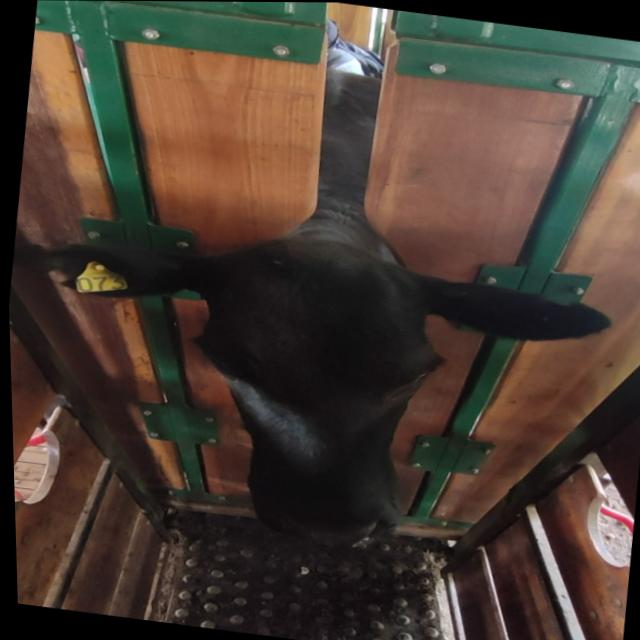cowFace: (168, 224, 456, 561)
